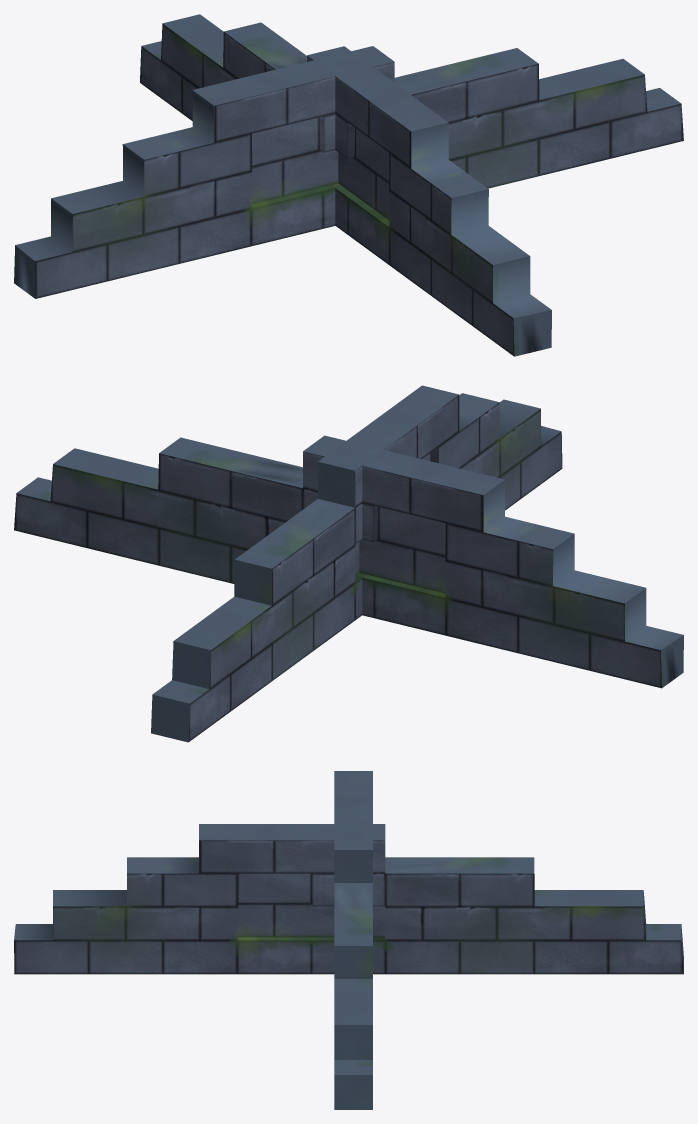
Rendered from cross_wall.obj.
3 views of the same model, one above another, from view 1: azimuth 30°, elevation 25°; view 2: azimuth 150°, elevation 25°; view 3: azimuth 270°, elevation 25° (orthographic). The views are drawn at different scales.
Visible parts, largest first — view 1: Walls11_Estructura1_0; view 2: Walls11_Estructura1_0; view 3: Walls11_Estructura1_0.
Part boxes in pixels (bbox=[...]): Walls11_Estructura1_0: bbox=[14, 14, 683, 356]; Walls11_Estructura1_0: bbox=[14, 385, 683, 742]; Walls11_Estructura1_0: bbox=[14, 771, 683, 1109].
Bounding box in the file's own units: 1.81 × 0.398 × 1.81.
